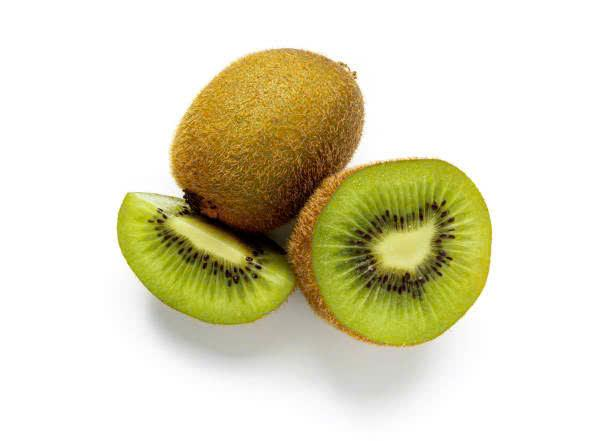kiwi: (295, 143, 496, 348), (162, 20, 336, 226), (98, 173, 298, 338)
